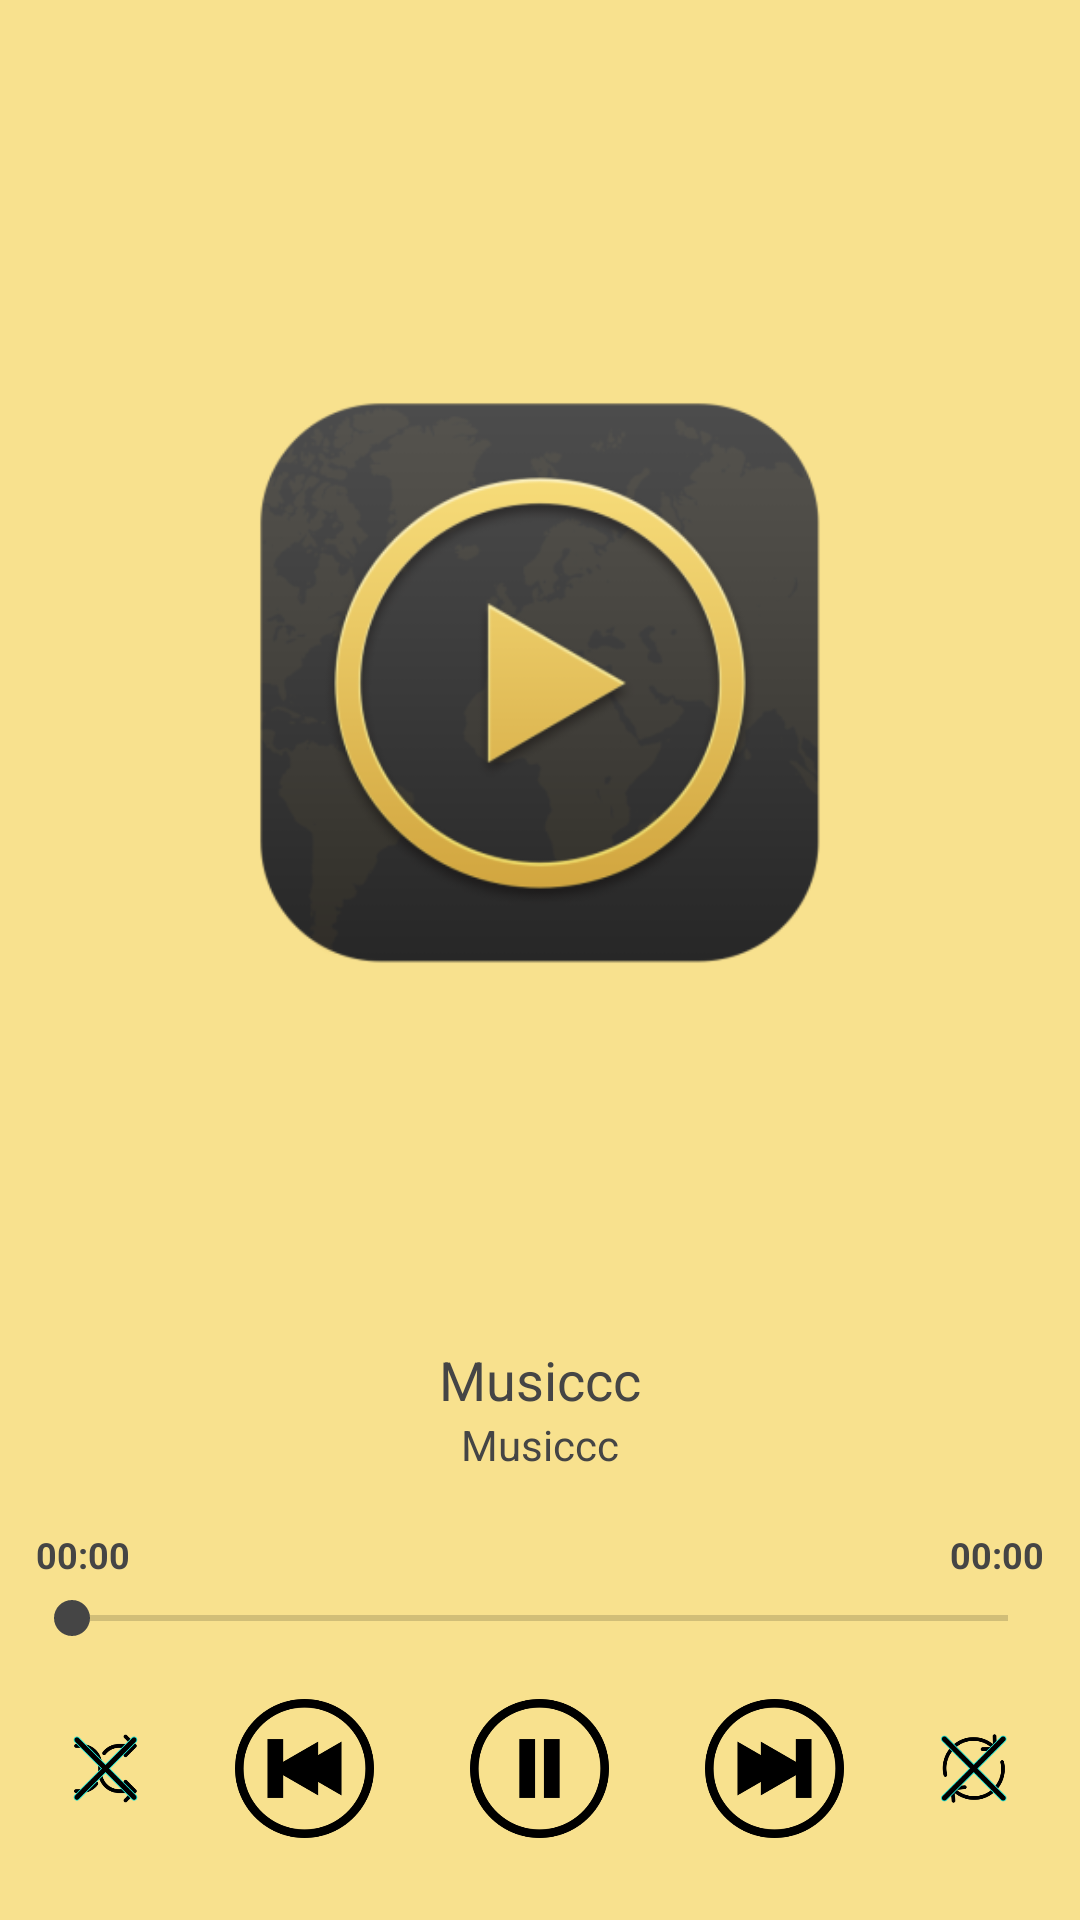

Named icons in this screenshot (1080px×1920px) and their centers, point (x, y):
next: point (774, 1768)
pause: point (539, 1768)
previous: point (304, 1768)
repeat off: point (974, 1768)
shuffle off: point (105, 1768)
